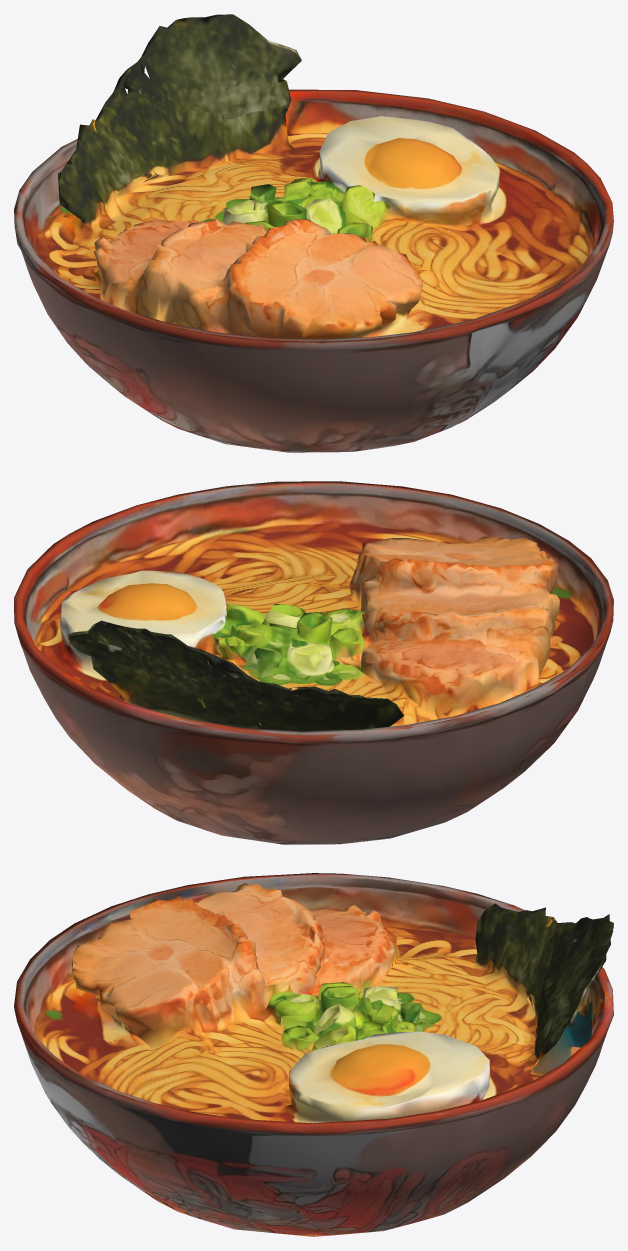
The model's file is stylized_ramen_bowl_3d_model_rapid_assets.glb.
3 views of the same model, one above another, from view 1: azimuth 30°, elevation 25°; view 2: azimuth 150°, elevation 25°; view 3: azimuth 270°, elevation 25° (orthographic).
Parts seen in each view (by area): view 1: tripo_node_7dcc6aec-866d-458f-a8bc-f5e5a754fd35_0; view 2: tripo_node_7dcc6aec-866d-458f-a8bc-f5e5a754fd35_0; view 3: tripo_node_7dcc6aec-866d-458f-a8bc-f5e5a754fd35_0.
Part boxes in pixels (x1,y1,x2,y2): tripo_node_7dcc6aec-866d-458f-a8bc-f5e5a754fd35_0: (14, 14, 613, 452); tripo_node_7dcc6aec-866d-458f-a8bc-f5e5a754fd35_0: (14, 481, 613, 844); tripo_node_7dcc6aec-866d-458f-a8bc-f5e5a754fd35_0: (14, 873, 613, 1236).
Bounding box in the file's own units: 1 × 0.4458 × 1.
1 material, 1 textured.
